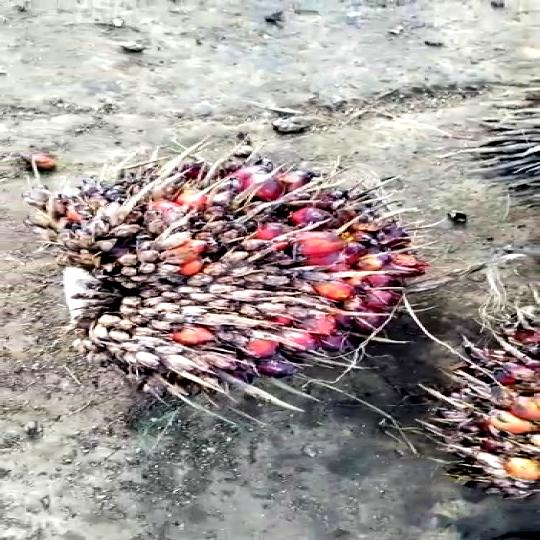masak: (44, 148, 428, 409)
